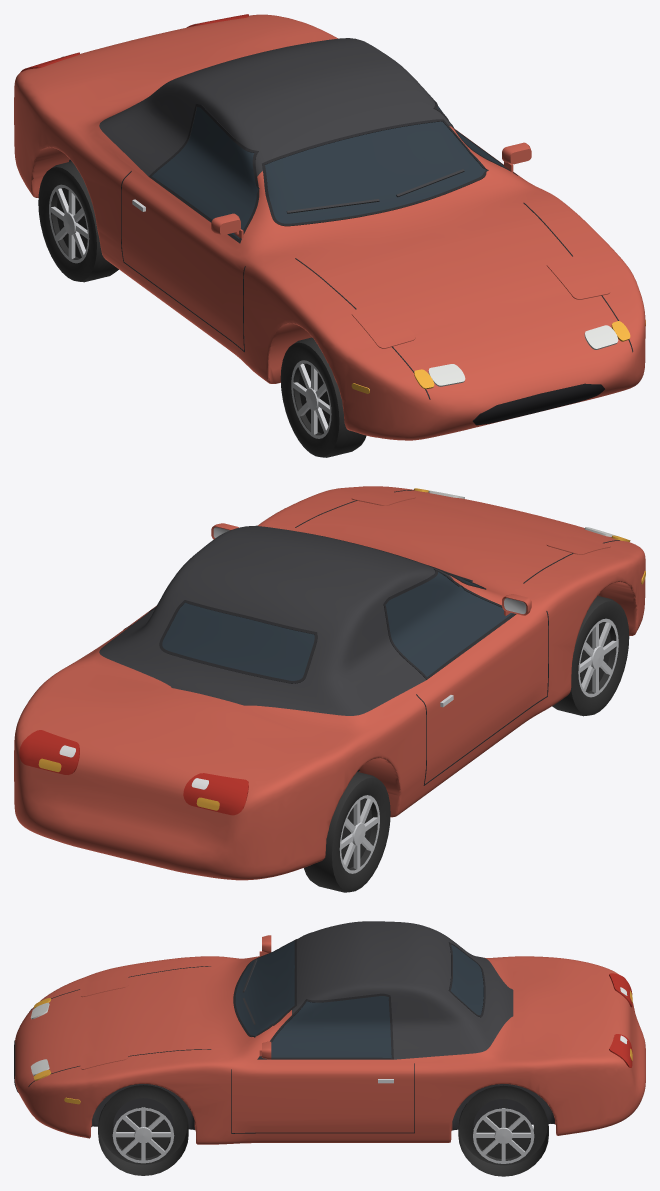
3 views of the same model, one above another, from view 1: azimuth 30°, elevation 25°; view 2: azimuth 150°, elevation 25°; view 3: azimuth 270°, elevation 25° (orthographic). The views are drawn at different scales.
Visible parts, largest first — view 1: paint, glass, trim, wheel_fr, wheel_rr, headlights, mirrors; view 2: paint, glass, wheel_rr, wheel_fr, trim, taillights, mirrors; view 3: paint, glass, wheel_fl, wheel_rl, trim, taillights, headlights, mirrors.
Part boxes in pixels (<box>): paint: <box>14,14,645,440</box>; glass: <box>152,106,505,238</box>; trim: <box>121,94,633,425</box>; wheel_fr: <box>280,337,366,457</box>; wheel_rr: <box>38,161,118,282</box>; headlights: <box>428,325,618,386</box>; mirrors: <box>211,142,531,238</box>; paint: <box>14,486,645,880</box>; glass: <box>155,572,512,680</box>; wheel_rr: <box>304,772,390,892</box>; wheel_fr: <box>552,595,629,716</box>; trim: <box>123,490,619,785</box>; taillights: <box>19,730,248,815</box>; mirrors: <box>211,523,531,615</box>; paint: <box>15,921,645,1144</box>; glass: <box>235,941,483,1058</box>; wheel_fl: <box>98,1085,188,1175</box>; wheel_rl: <box>458,1085,548,1176</box>; trim: <box>14,932,485,1133</box>; taillights: <box>609,973,632,1067</box>; headlights: <box>30,1002,49,1075</box>; mirrors: <box>259,935,271,1059</box>.
Size of the model in its own units: 1.72 by 1.22 by 3.97.
